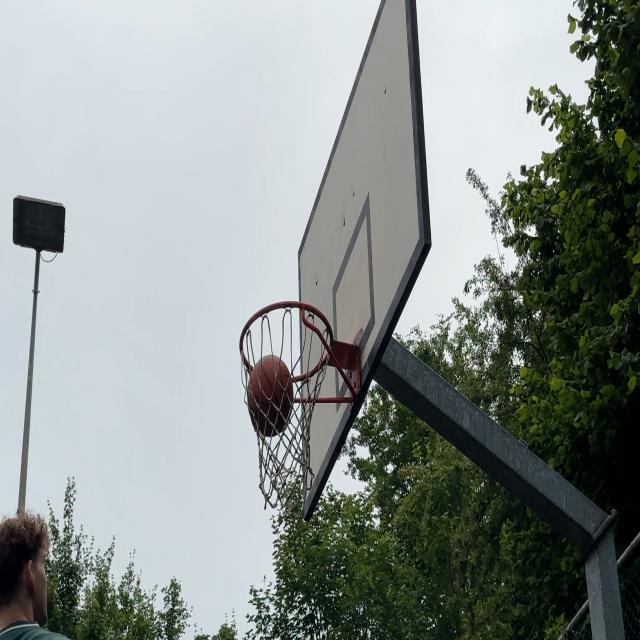Goal: (247, 357, 294, 439)
